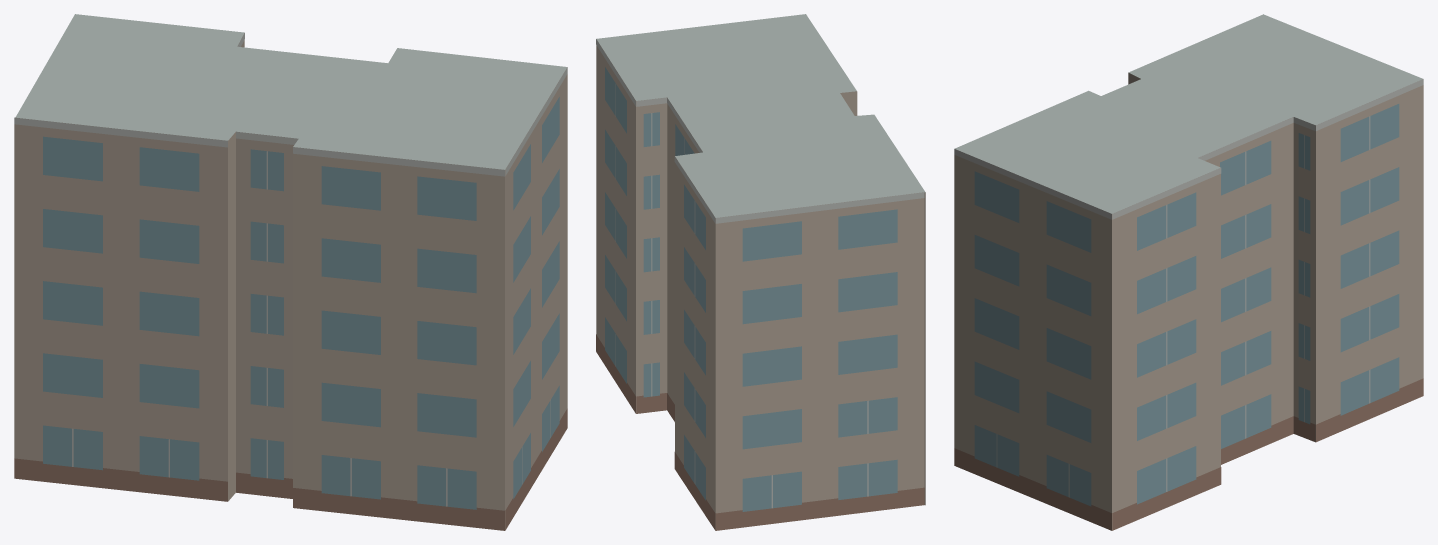
Rendered from survey-upis-32625762.glb.
3 views of the same model, side by side, from view 1: azimuth 30°, elevation 25°; view 2: azimuth 150°, elevation 25°; view 3: azimuth 270°, elevation 25° (orthographic). The views are drawn at different scales.
Visible parts, largest first — view 1: survey-upis-32625762.tmp; view 2: survey-upis-32625762.tmp; view 3: survey-upis-32625762.tmp.
Part boxes in pixels (bbox=[...]): survey-upis-32625762.tmp: bbox=[14, 14, 567, 530]; survey-upis-32625762.tmp: bbox=[596, 14, 925, 530]; survey-upis-32625762.tmp: bbox=[954, 14, 1423, 530].
Bounding box in the file's own units: 17.59 × 13 × 17.45.
